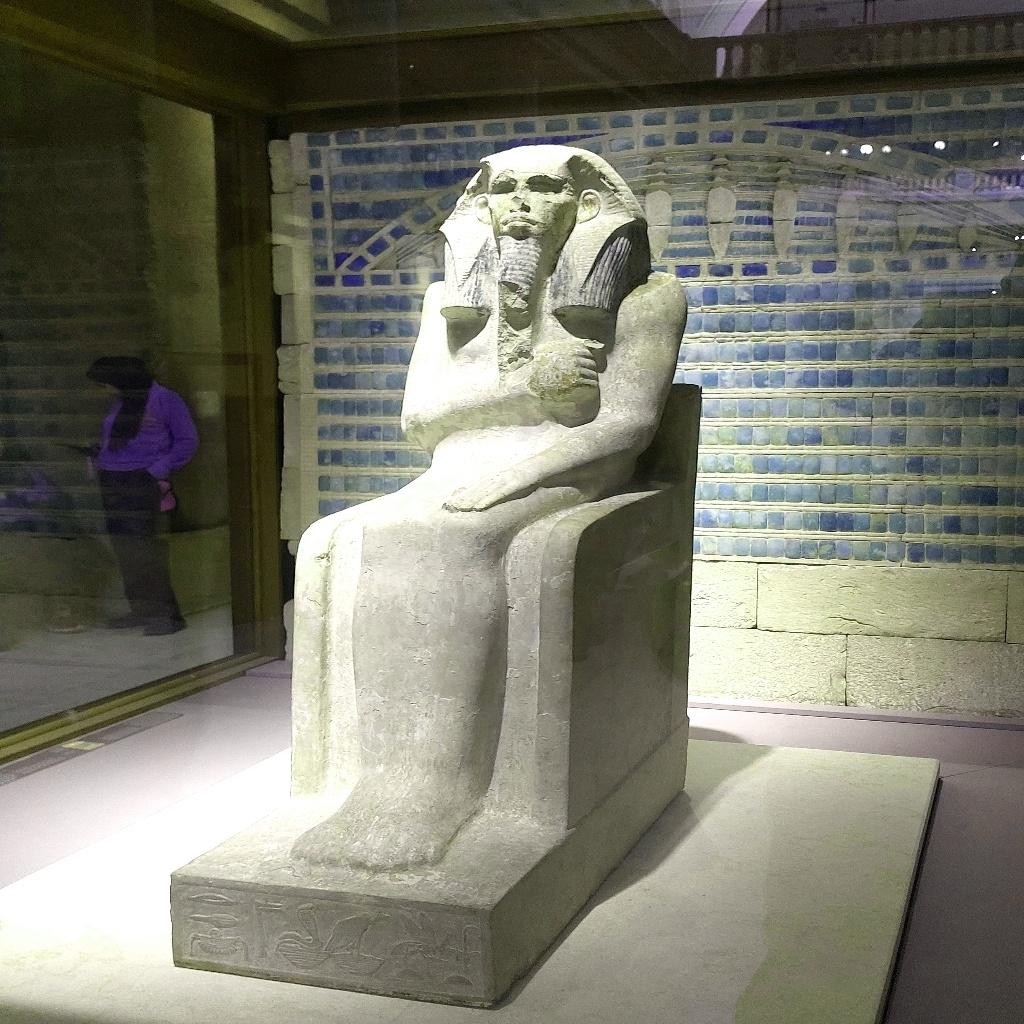Seated Statue of Djoser: (279, 140, 696, 878)
